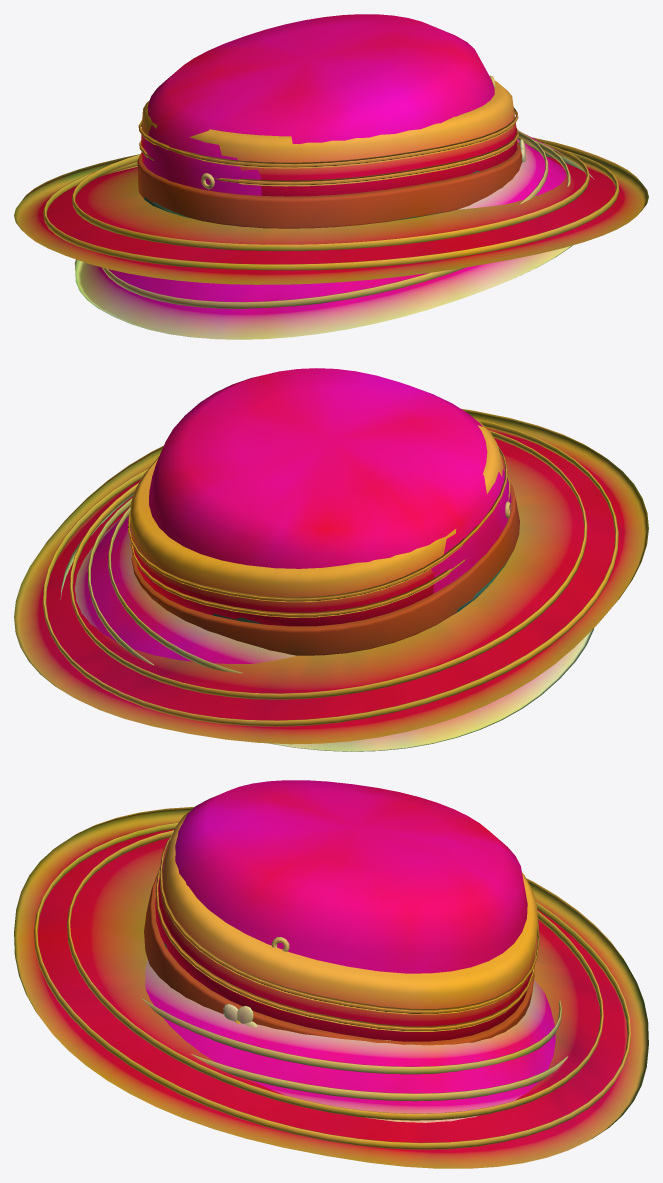
The model's file is TouristLooks.glb.
3 views of the same model, one above another, from view 1: azimuth 30°, elevation 25°; view 2: azimuth 150°, elevation 25°; view 3: azimuth 270°, elevation 25° (orthographic). The views are drawn at different scales.
Visible parts, largest first — view 1: Look_Straw_Hat, Look_Bucket_Hat; view 2: Look_Straw_Hat, Look_Bucket_Hat; view 3: Look_Straw_Hat, Look_Bucket_Hat.
Boxes of the visible parts, x1,y1,x2,y2 form: Look_Straw_Hat: (14, 80, 648, 284); Look_Bucket_Hat: (74, 14, 594, 339); Look_Straw_Hat: (14, 408, 648, 744); Look_Bucket_Hat: (60, 368, 593, 751); Look_Straw_Hat: (14, 796, 648, 1168); Look_Bucket_Hat: (142, 780, 568, 1122).
Size of the model in its own units: 1.01 by 0.4082 by 0.9456.
